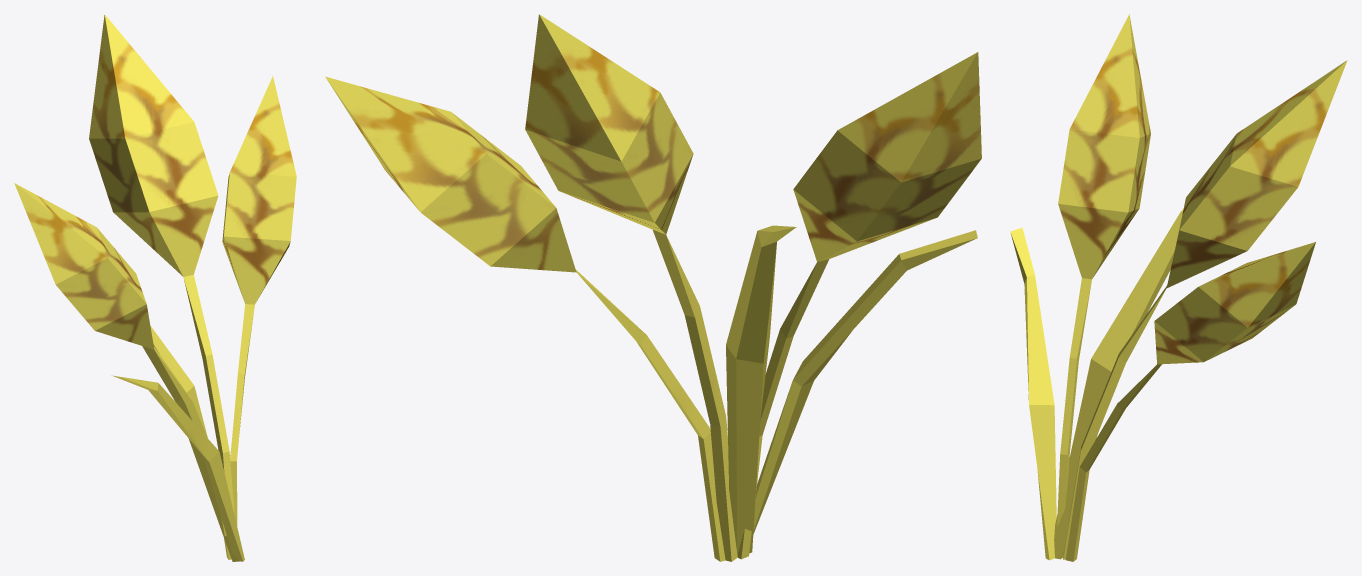
File: Wheat.fbx
3 views of the same model, side by side, from view 1: azimuth 30°, elevation 25°; view 2: azimuth 150°, elevation 25°; view 3: azimuth 270°, elevation 25° (orthographic). The views are drawn at different scales.
Visible parts, largest first — view 1: Asset_epieBle_01, Asset_epieBle_02, Asset_epieBle_03, Asset_epieBle_04, Asset_epieBle_05; view 2: Asset_epieBle_01, Asset_epieBle_03, Asset_epieBle_02, Asset_epieBle_05, Asset_epieBle_04; view 3: Asset_epieBle_01, Asset_epieBle_03, Asset_epieBle_02, Asset_epieBle_05, Asset_epieBle_04.
Boxes of the visible parts, box(x1,y1,x2,y2) form: Asset_epieBle_01: box(89, 14, 234, 514); Asset_epieBle_02: box(222, 76, 296, 525); Asset_epieBle_03: box(14, 183, 231, 559); Asset_epieBle_04: box(111, 375, 244, 561); Asset_epieBle_05: box(142, 326, 239, 561); Asset_epieBle_01: box(525, 14, 737, 561); Asset_epieBle_03: box(737, 52, 981, 559); Asset_epieBle_02: box(325, 76, 725, 561); Asset_epieBle_05: box(726, 225, 796, 554); Asset_epieBle_04: box(753, 230, 977, 534); Asset_epieBle_01: box(1063, 60, 1347, 559); Asset_epieBle_03: box(1057, 14, 1150, 557); Asset_epieBle_02: box(1065, 242, 1315, 561); Asset_epieBle_05: box(1054, 209, 1183, 559); Asset_epieBle_04: box(1010, 227, 1056, 560).
Bounding box in the file's own units: 28.81 × 36.01 × 22.14.
